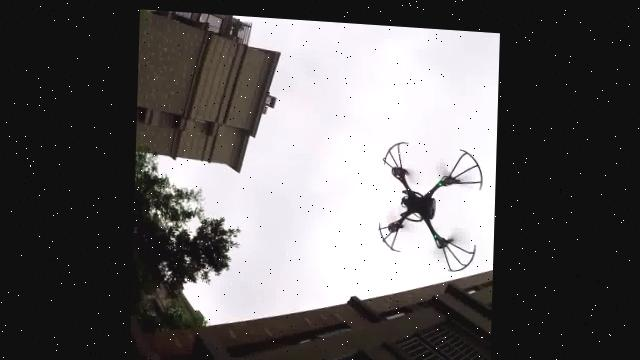drone: (369, 129, 490, 268)
